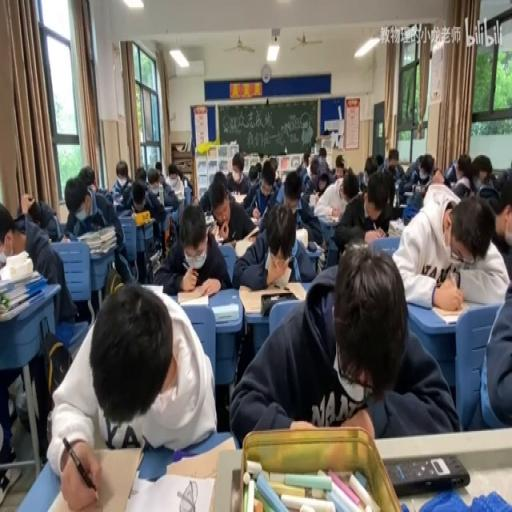calculator: (44, 444, 142, 509), (125, 471, 214, 512), (163, 434, 234, 480), (238, 280, 306, 314), (0, 292, 39, 322), (0, 268, 40, 292), (429, 306, 462, 324), (212, 302, 238, 322), (176, 289, 209, 304), (294, 224, 308, 248), (141, 283, 165, 296), (148, 247, 160, 269), (388, 218, 404, 234), (320, 213, 339, 225), (229, 192, 246, 205), (204, 216, 214, 235), (112, 196, 122, 209), (219, 239, 235, 247), (118, 209, 131, 218), (403, 189, 415, 198), (60, 232, 70, 242), (250, 216, 260, 225), (398, 202, 408, 210)
paper: (232, 252, 453, 445), (0, 195, 78, 468), (392, 184, 507, 308), (62, 168, 130, 286), (152, 198, 230, 293), (233, 199, 314, 290), (333, 168, 397, 256), (475, 286, 512, 429), (196, 168, 236, 222), (21, 194, 62, 240), (398, 151, 434, 202), (442, 152, 474, 198), (147, 165, 179, 209), (470, 154, 500, 200), (224, 151, 250, 193), (309, 156, 336, 194), (493, 176, 512, 226), (110, 158, 132, 200), (0, 202, 15, 250), (384, 151, 403, 183), (342, 170, 358, 200), (82, 164, 96, 192), (334, 154, 346, 179), (274, 181, 286, 206), (131, 189, 144, 211), (363, 155, 376, 176), (247, 163, 259, 185), (134, 166, 148, 184), (12, 215, 26, 232), (431, 165, 443, 182), (295, 160, 306, 178), (267, 155, 277, 174), (375, 154, 384, 169), (302, 152, 310, 168), (182, 175, 191, 189), (168, 171, 178, 182), (318, 145, 326, 158), (154, 162, 160, 174)
person: (384, 452, 470, 494), (230, 466, 242, 510), (307, 240, 318, 252)
